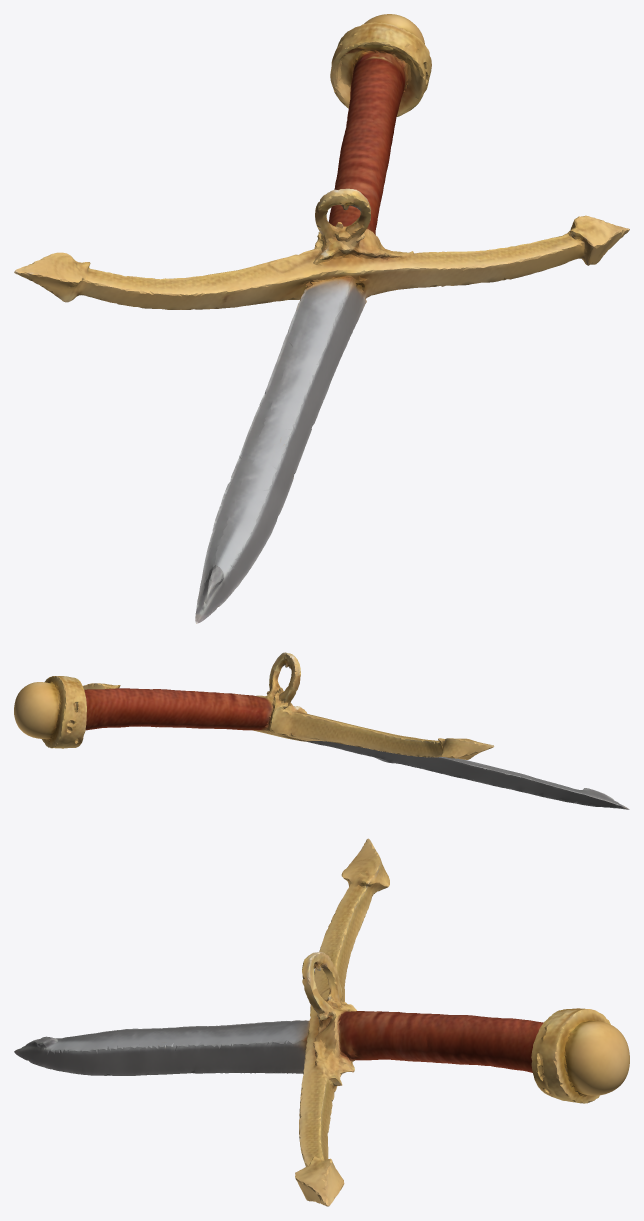
3 views of the same model, one above another, from view 1: azimuth 30°, elevation 25°; view 2: azimuth 150°, elevation 25°; view 3: azimuth 270°, elevation 25° (orthographic). The views are drawn at different scales.
Parts seen in each view (by area): view 1: 051; view 2: 051; view 3: 051.
Part boxes in pixels (x1,y1,x2,y2): 051: (14, 14, 629, 623); 051: (14, 652, 629, 809); 051: (14, 838, 629, 1206).
Bounding box in the file's own units: 1.9 × 0.8323 × 1.75.
1 material, 1 textured.
